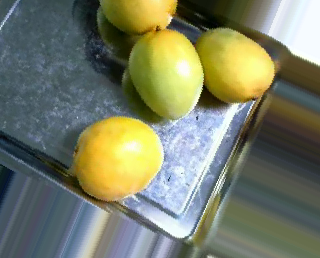Mango: (72, 116, 164, 200), (126, 29, 204, 119), (196, 29, 274, 104)
